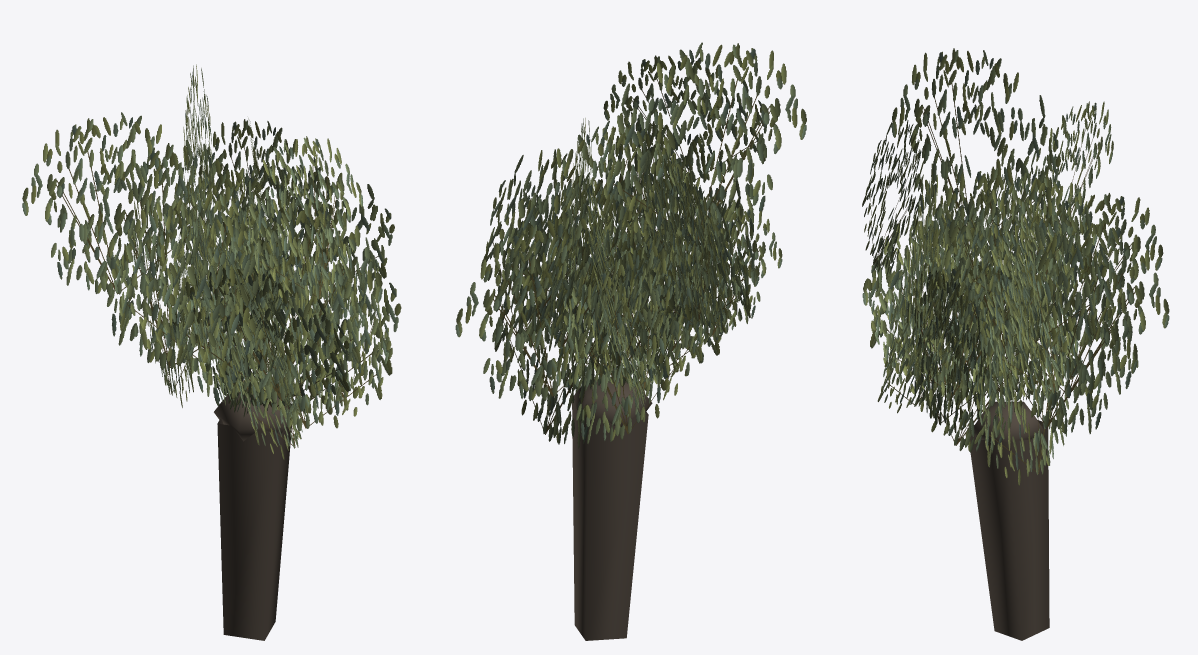
File: tpl_rec_bank_dike_pollard_lo.glb
3 renders of one model, left to right at view 1: azimuth 30°, elevation 25°; view 2: azimuth 150°, elevation 25°; view 3: azimuth 270°, elevation 25°, orthographic. The views are drawn at different scales.
Parts seen in each view (by area): view 1: tpl_rec_bank_dike_pollard_lo; view 2: tpl_rec_bank_dike_pollard_lo; view 3: tpl_rec_bank_dike_pollard_lo.
Part boxes in pixels (x1,y1,x2,y2): tpl_rec_bank_dike_pollard_lo: (22,64,401,640); tpl_rec_bank_dike_pollard_lo: (455,42,806,640); tpl_rec_bank_dike_pollard_lo: (862,48,1169,640).
Size of the model in its own units: 4 by 6.8 by 3.76.
Materials: 2 (1 with a texture image).
